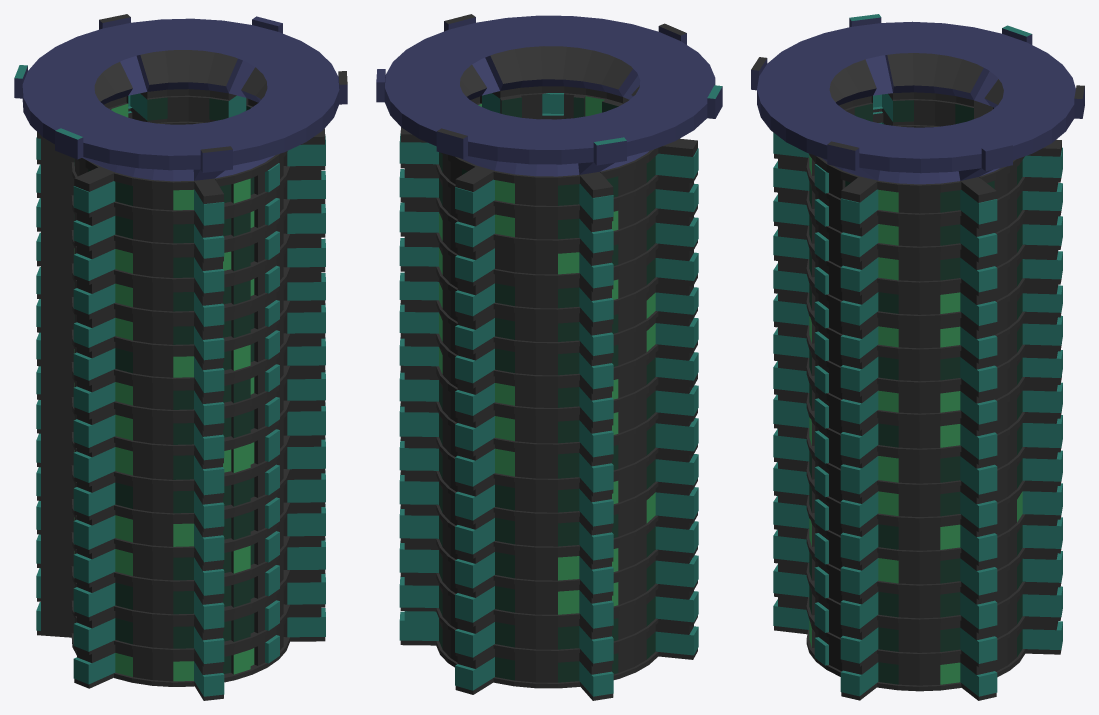
File: PREDIO_2_COISADO_.fbx
3 views of the same model, side by side, from view 1: azimuth 30°, elevation 25°; view 2: azimuth 150°, elevation 25°; view 3: azimuth 270°, elevation 25° (orthographic).
Visible parts, largest first — view 1: Cylinder.001; view 2: Cylinder.001; view 3: Cylinder.001.
Part boxes in pixels (bbox=[...]): Cylinder.001: bbox=[14, 14, 347, 700]; Cylinder.001: bbox=[376, 14, 722, 700]; Cylinder.001: bbox=[751, 14, 1084, 700].
Bounding box in the file's own units: 486 × 911 × 493.
